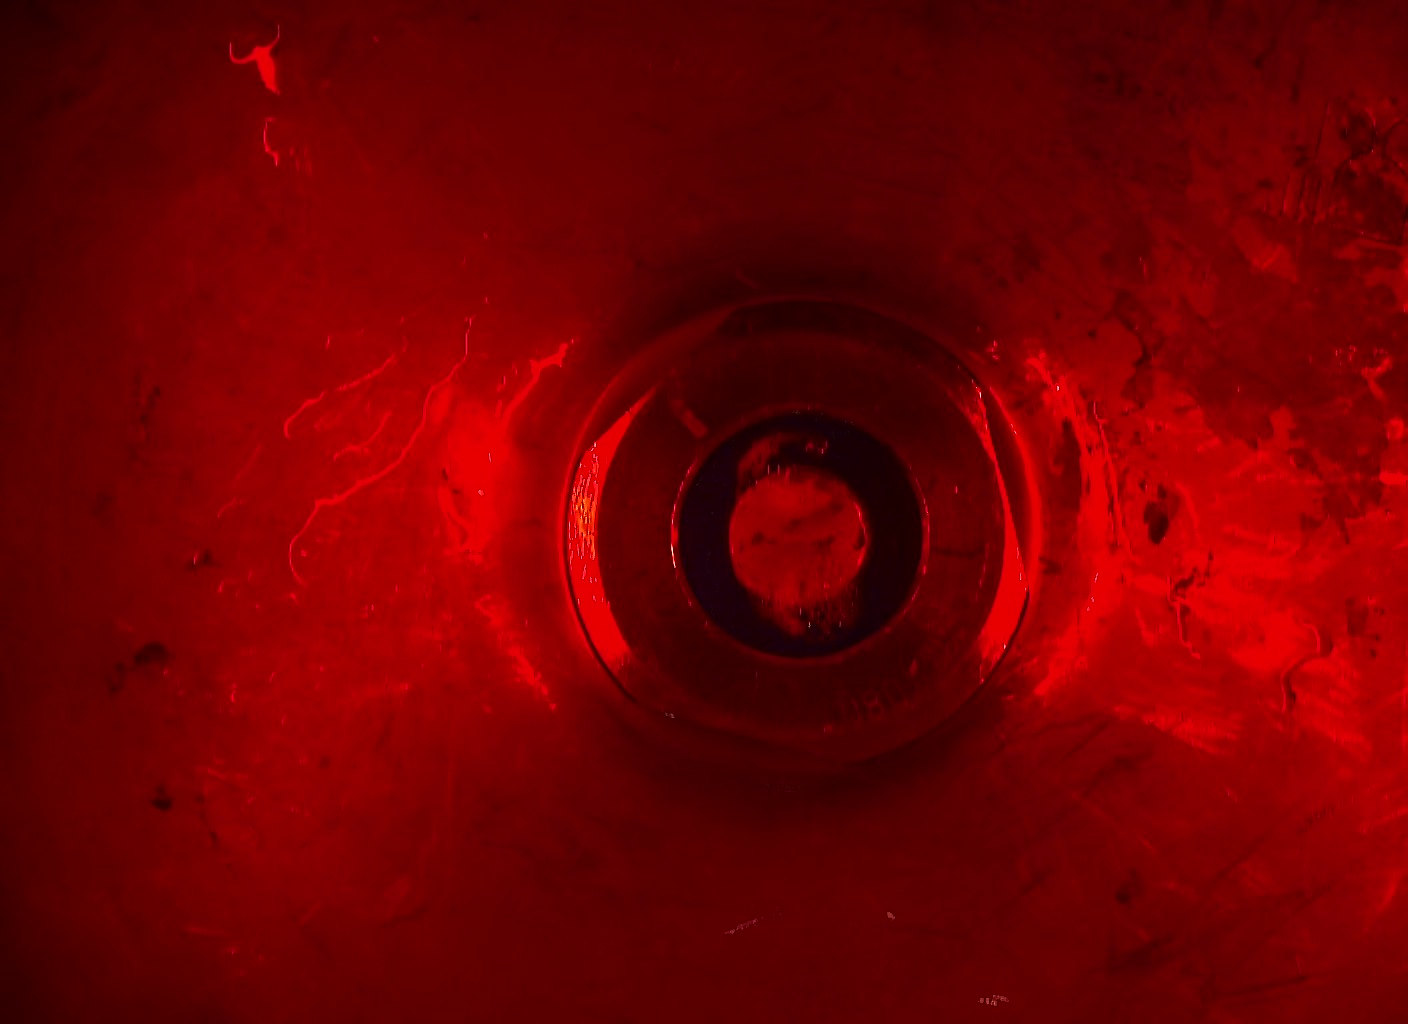pena: (728, 560, 875, 654), (715, 417, 849, 511)
